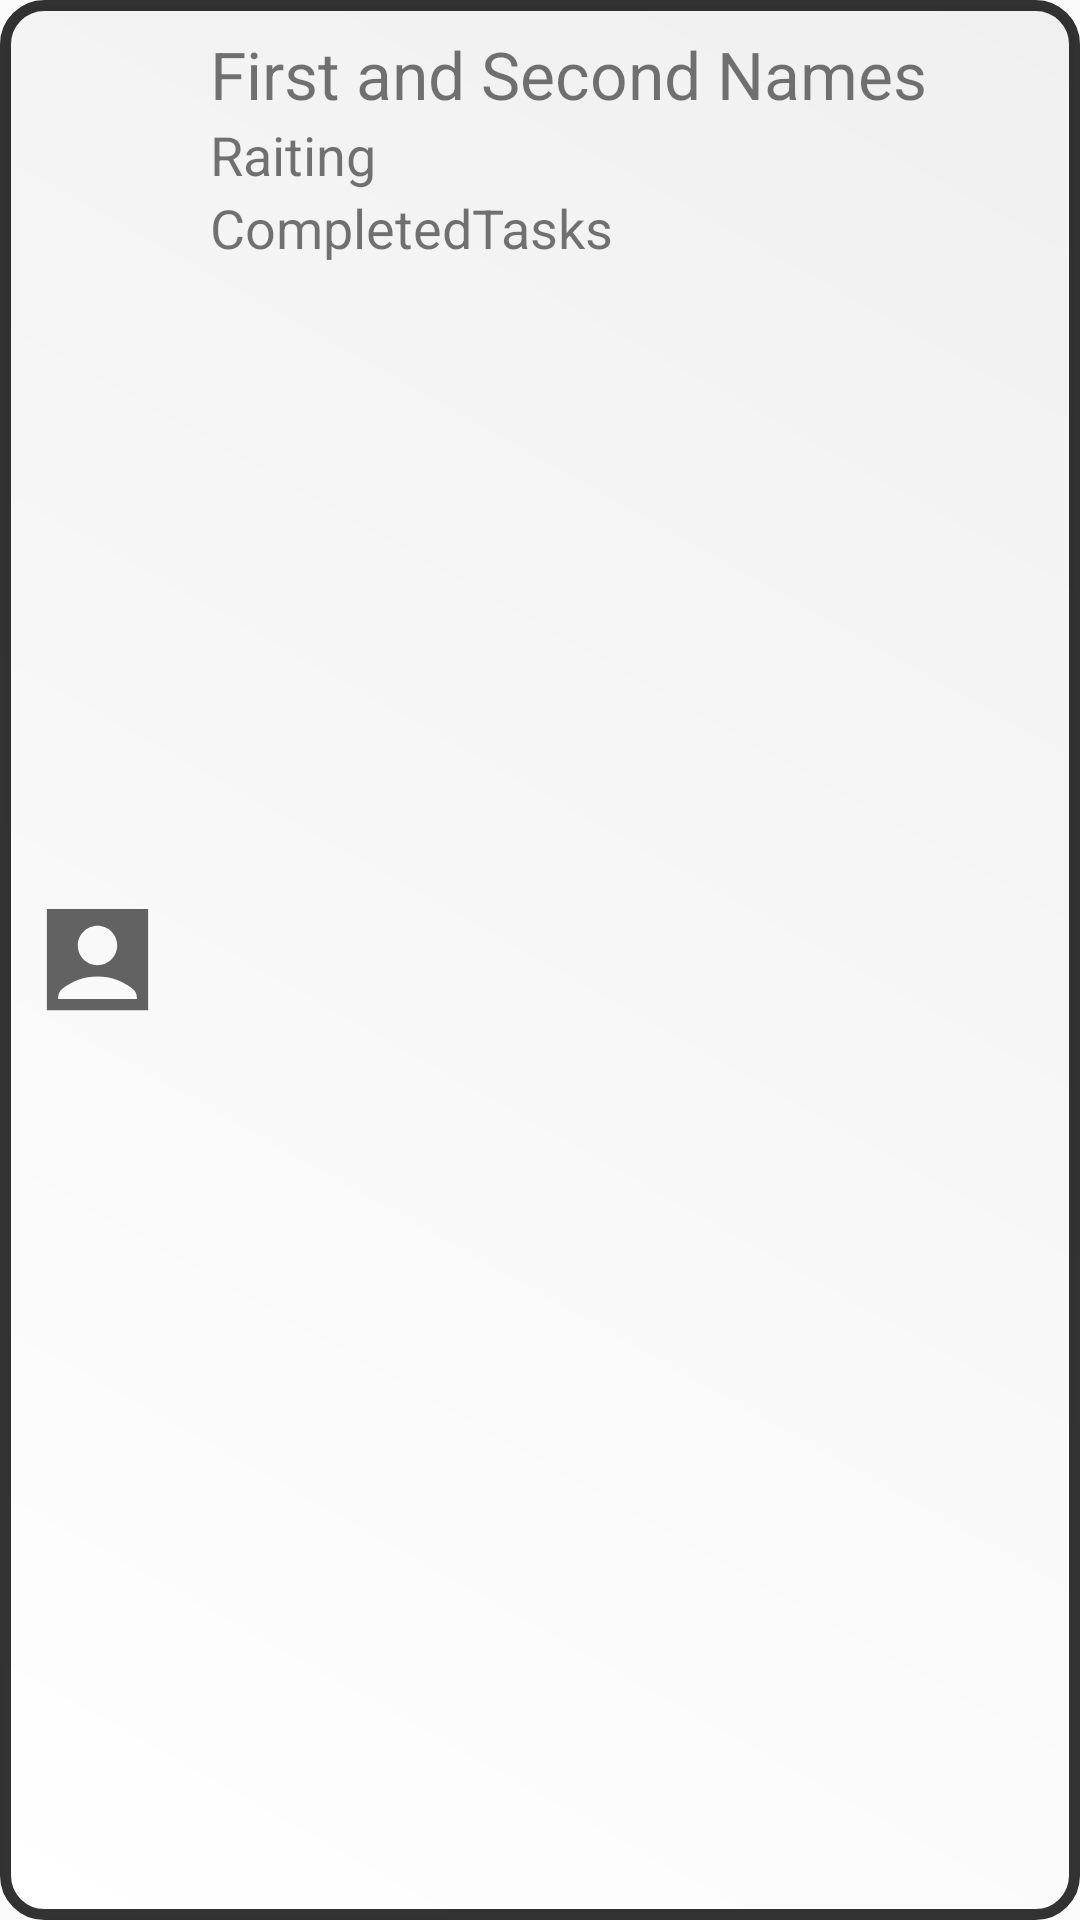

Screen size 1080x1920. Icon name, then its box in pixels as (x1, y1, x2, y2):
account box: (47, 909, 148, 1011)
